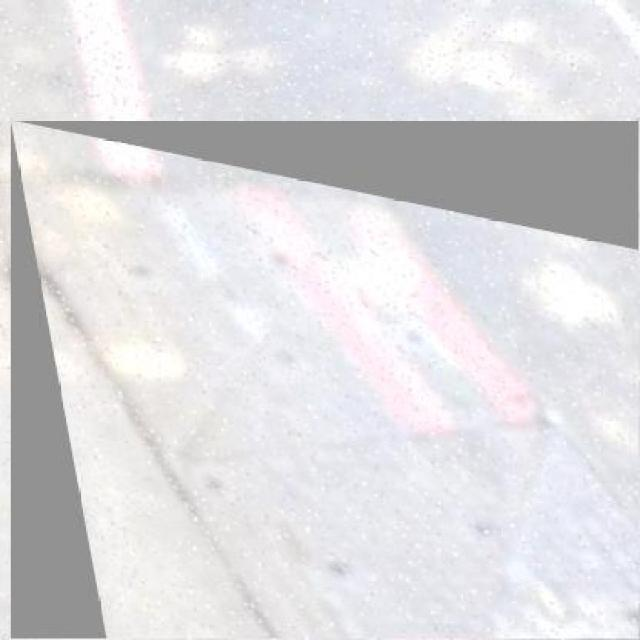Manhole: (11, 120, 638, 638)
